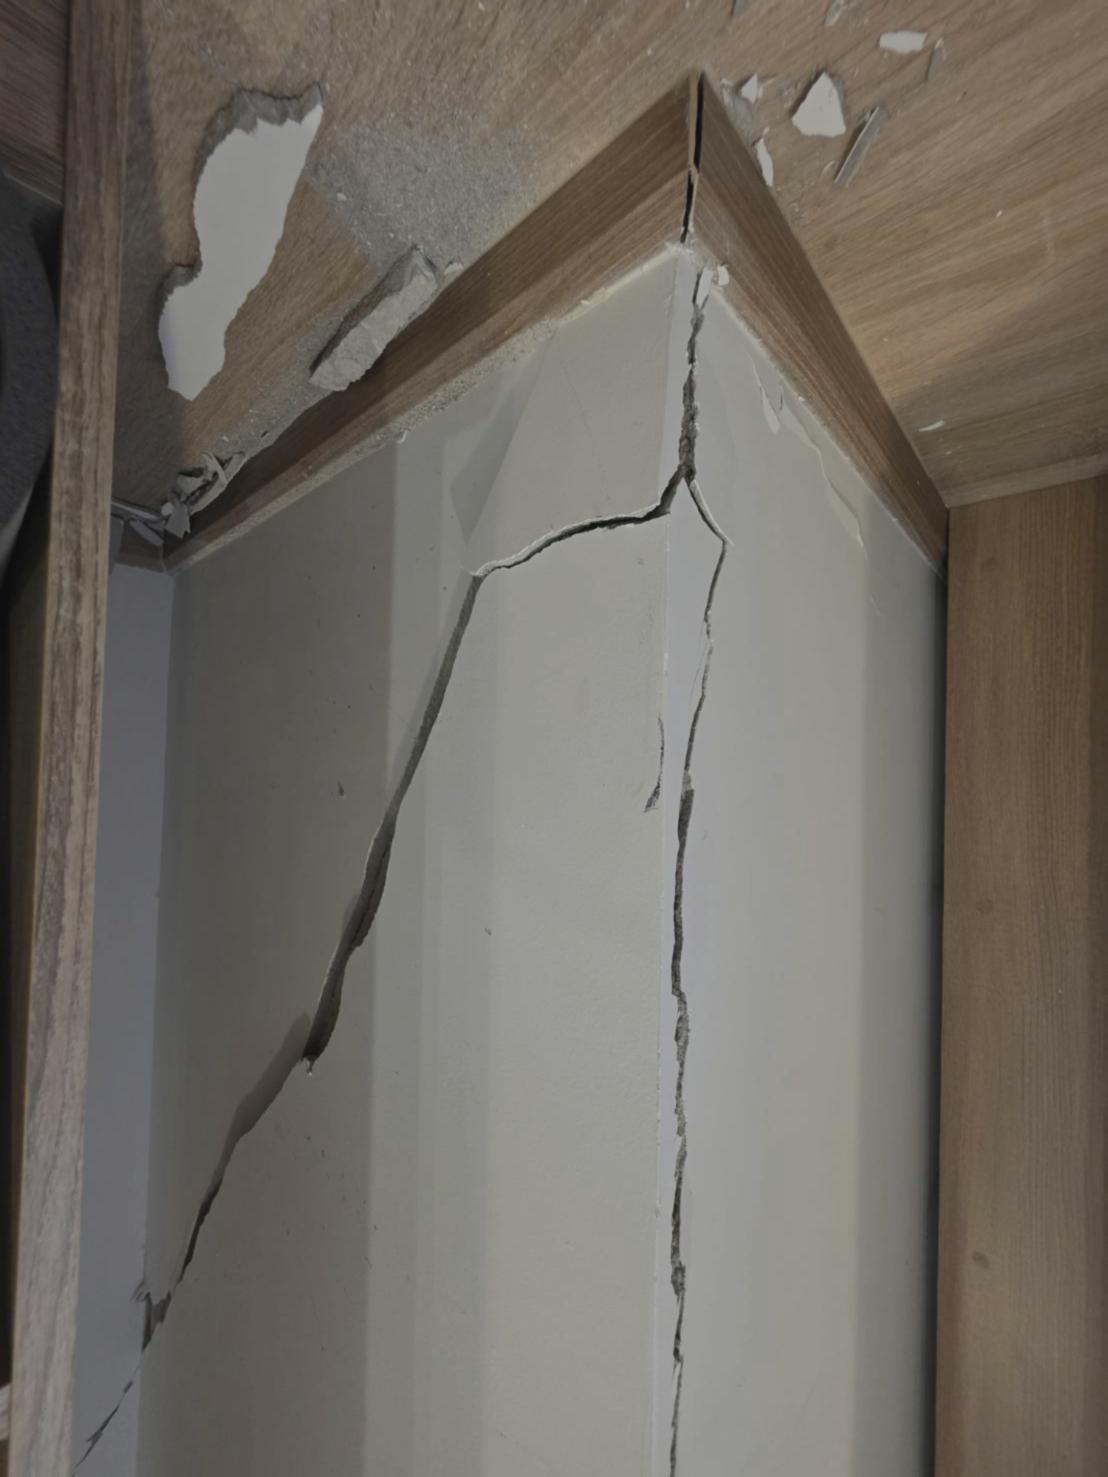High: (121, 78, 776, 1477)
